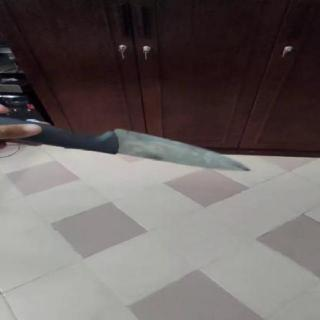knife: (94, 126, 261, 178)
